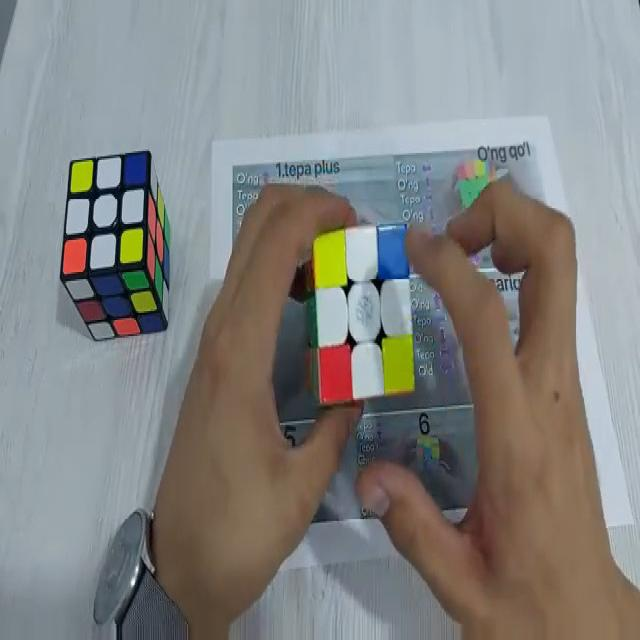Rub: (60, 150, 173, 343), (306, 221, 416, 409)
